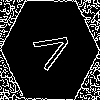V: (25, 25, 75, 76)
